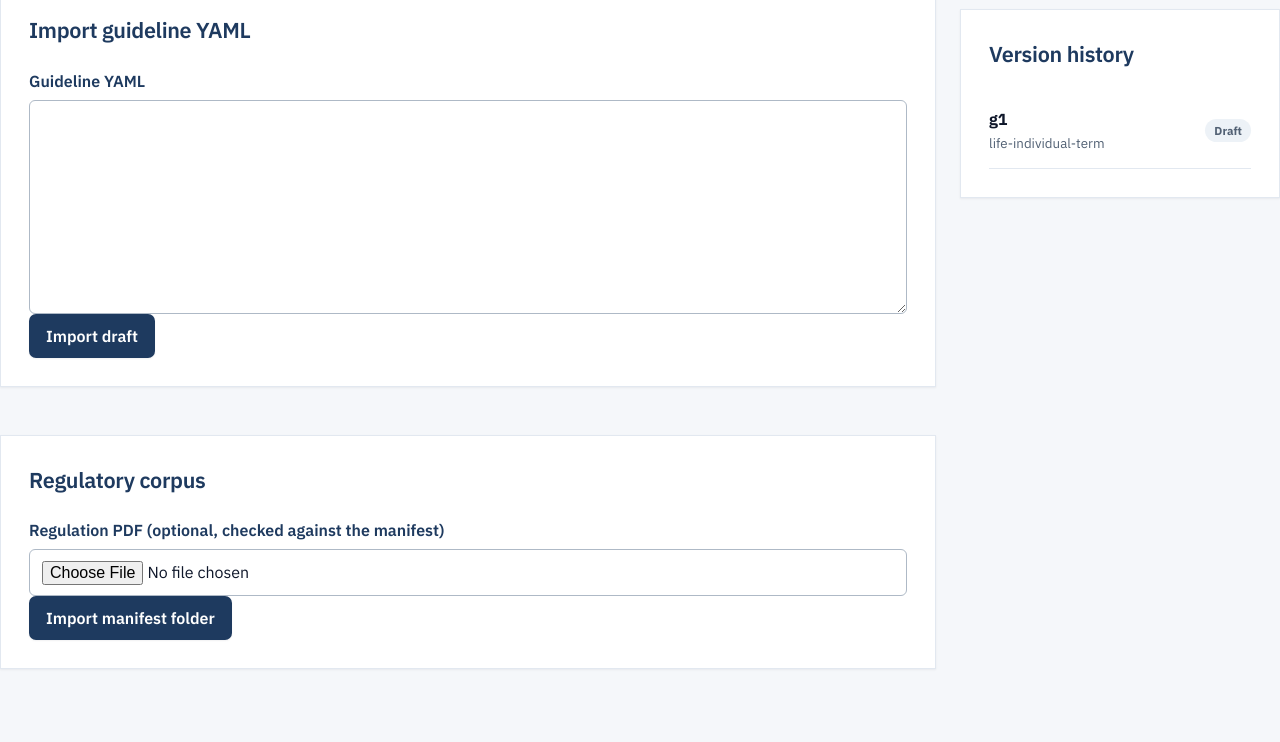
Scenario: knowledge administration › previews passages and announces validation issues
The width and height of the screenshot is (1280, 742).
Click the button "g1 life-individual-term draft": (1047, 143) x1=989 y1=93 x2=1251 y2=169
(page scrolled)
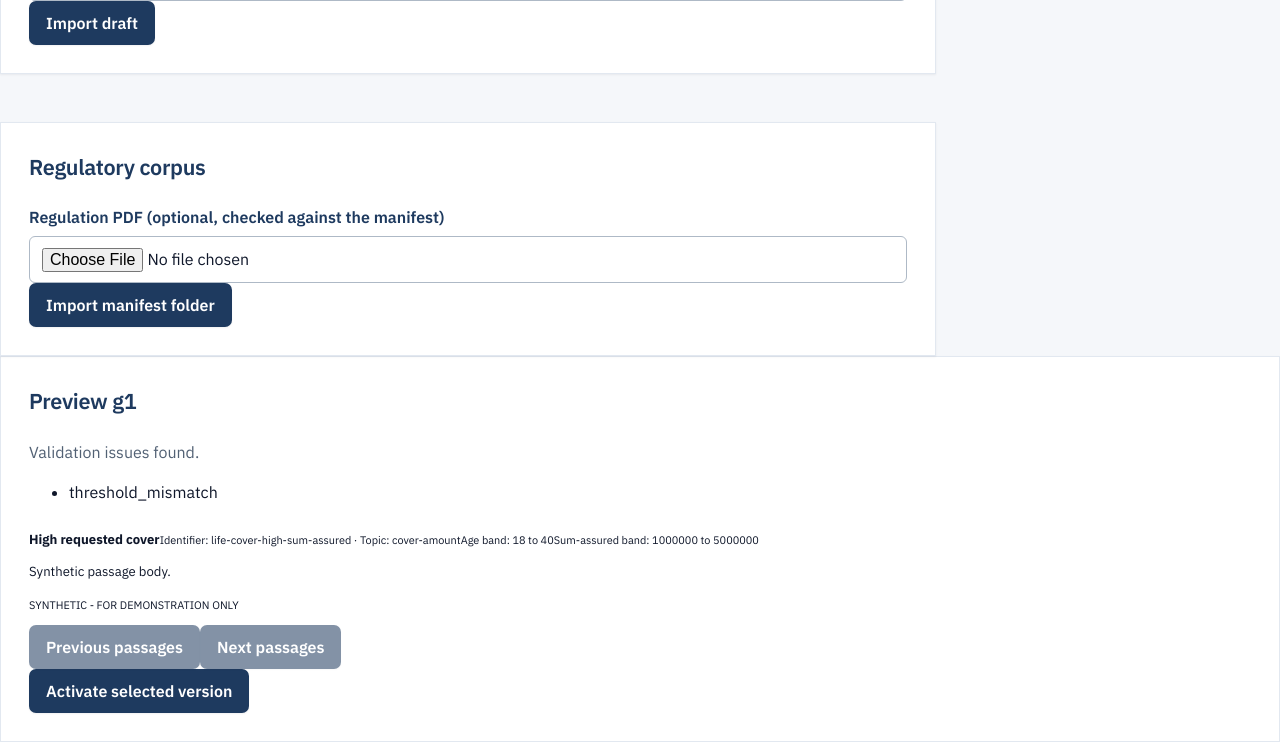
expect the list item "threshold_mismatch" is shown: met, box x1=69 y1=482 x2=218 y2=502
expect the text "SYNTHETIC - FOR DEMONSTRATION ONLY" is shown: met, box x1=29 y1=598 x2=239 y2=612
expect the text "Topic: cover-amount" is shown: met, box x1=160 y1=533 x2=461 y2=547
